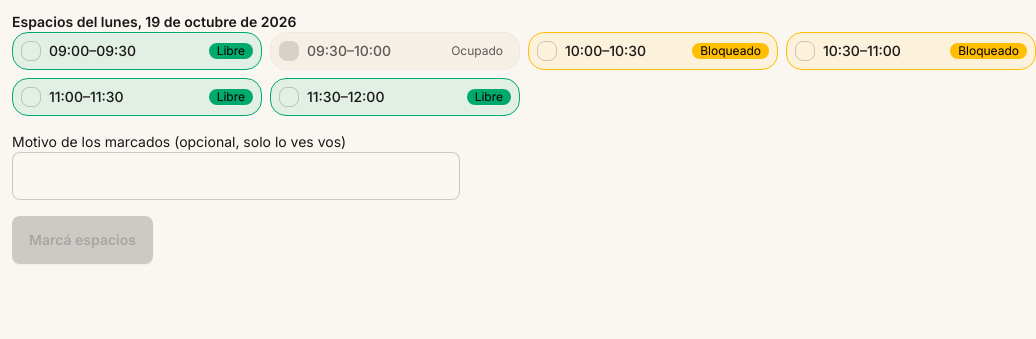
Test case: SlotPicker — US-AGE-07, criterio 1: bloquear espacios › criterio 4: si un espacio tiene una cita, avisa que hay que resolverla y enlaza a las citas
The image size is (1036, 339).
Click the checkbox labelled "09:00–09:30 Libre". click: (31, 51)
box: [21, 41, 41, 61]
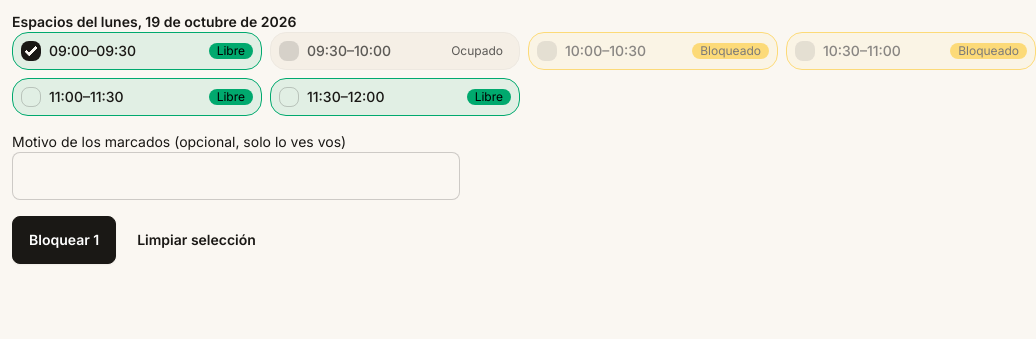
Click the button "Bloquear 1". click: (64, 240)
box: [12, 216, 116, 264]
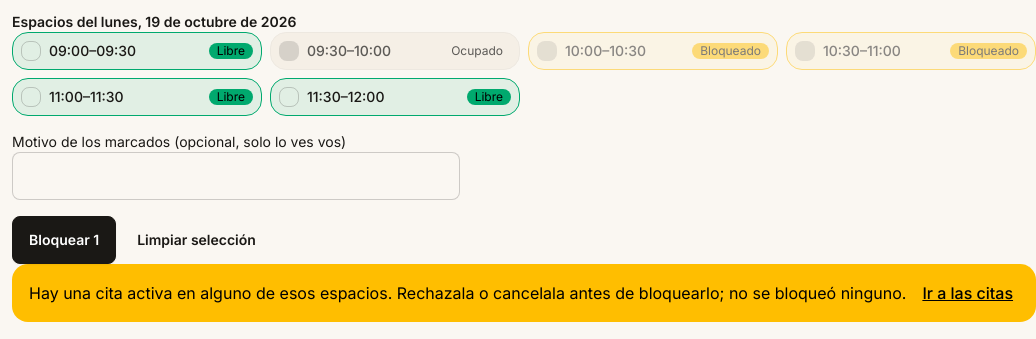
Check: the message shows "Hay una cita activa en alguno de esos espacios. Rechazala o cancelala antes de bloquearlo; no se bloqueó ninguno.", box [29, 283, 906, 303]
